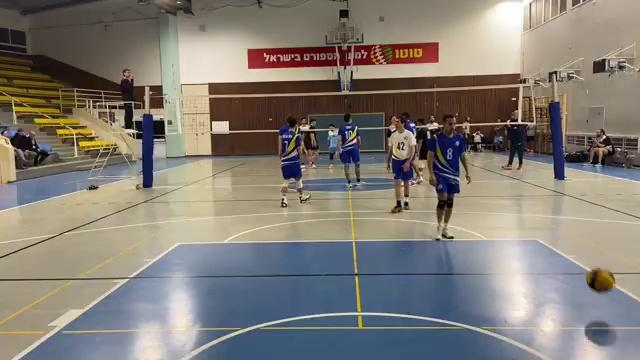ball: (579, 264, 621, 295)
